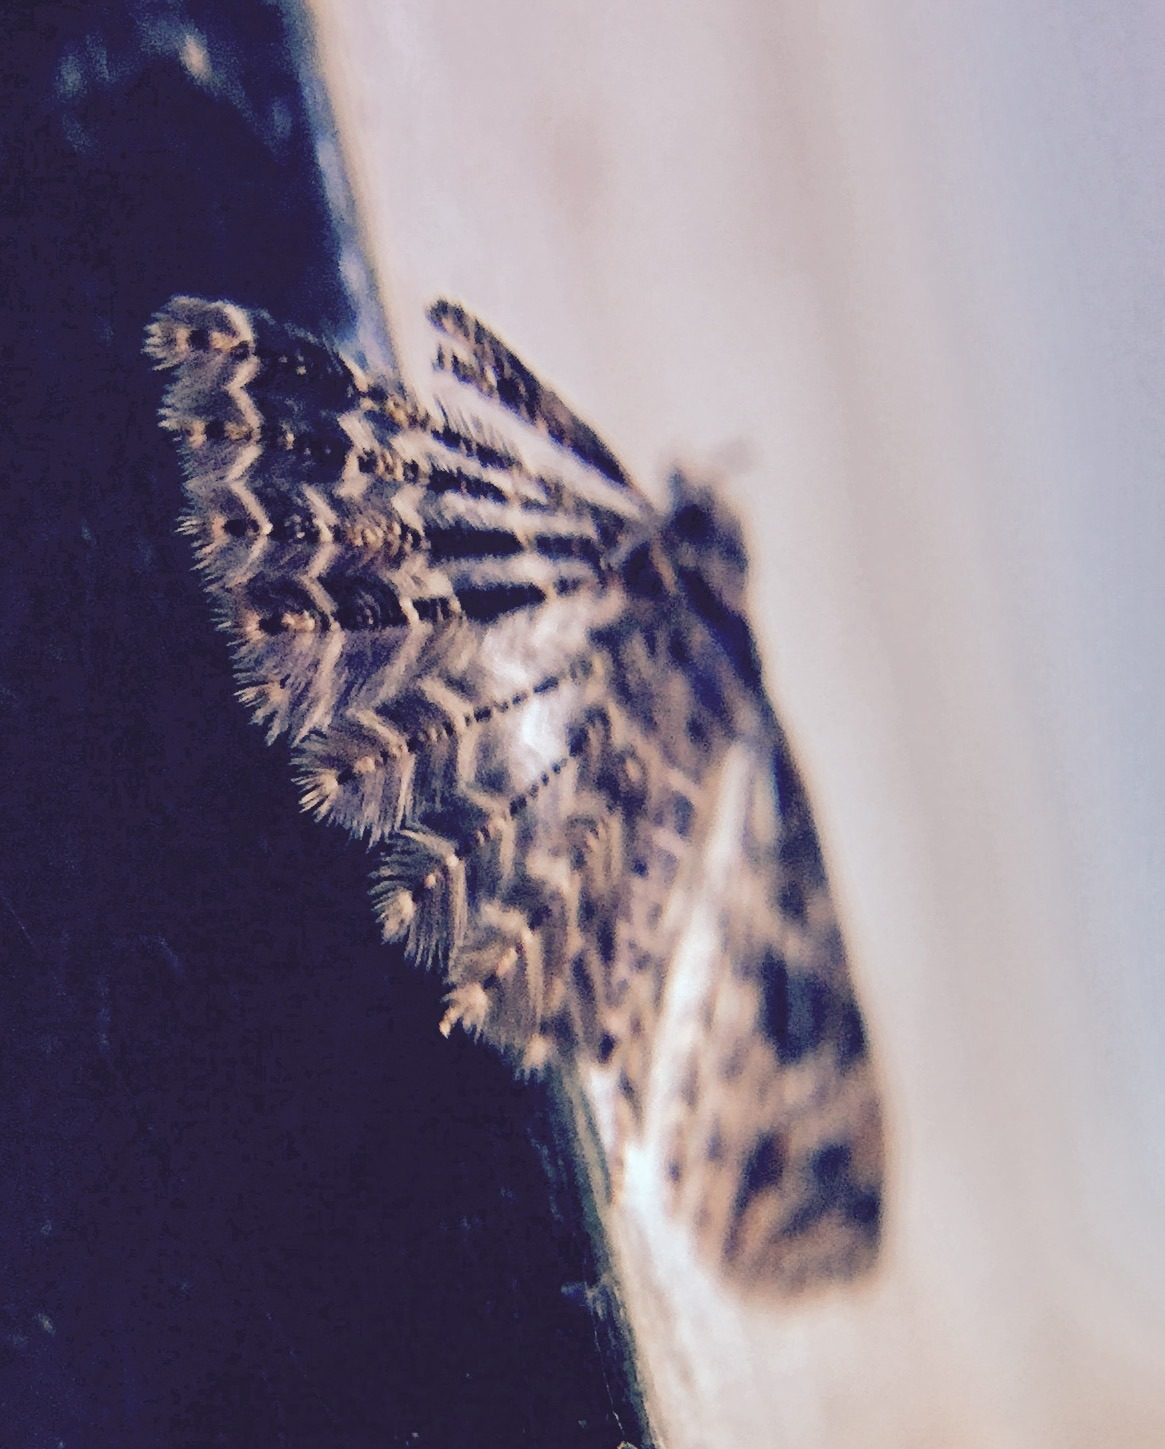Alucitidae: (116, 283, 898, 1299)
moth: (114, 281, 896, 1297)
